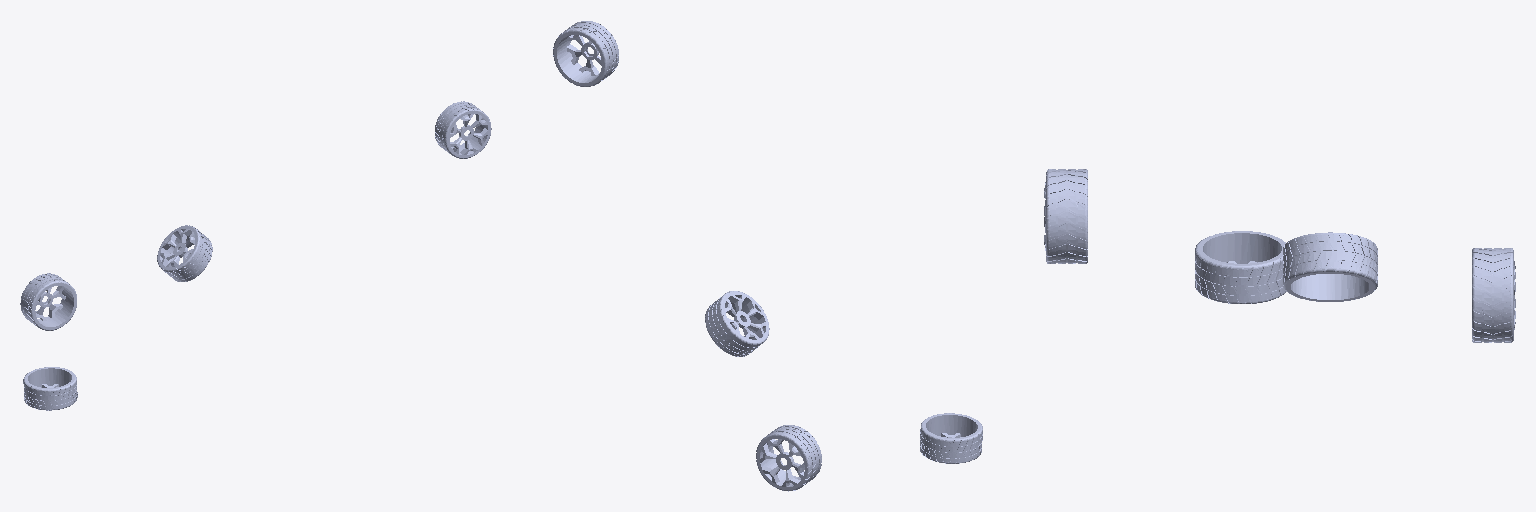
URDF robot description (car_amac):
<robot
  name="car_amac">
  <link
    name="lidar_base_link">
    <inertial>
      <origin
        xyz="0.06072 0.0001453 -0.06777"
        rpy="0 0 0" />
      <mass
        value="2.1016" />
      <inertia
        ixx="0.0051834"
        ixy="-6.6304E-06"
        ixz="0.001372"
        iyy="0.0096466"
        iyz="-1.5998E-05"
        izz="0.0044931" />
    </inertial>
    <visual>
      <origin
        xyz="0 0 0"
        rpy="0 0 0" />
      <geometry>
        <mesh
          filename="package://car_amac/meshes/lidar_base_link.STL" />
      </geometry>
      <material
        name="">
        <color
          rgba="0.89412 0.91373 0.92941 1" />
      </material>
    </visual>
    <collision>
      <origin
        xyz="0 0 0"
        rpy="0 0 0" />
      <geometry>
        <mesh
          filename="package://car_amac/meshes/lidar_base_link.STL" />
      </geometry>
    </collision>
  </link>
  <link
    name="LB_wheel">
    <inertial>
      <origin
        xyz="-1.7587E-09 -0.0058606 -3.4889E-10"
        rpy="0 0 0" />
      <mass
        value="0.09432" />
      <inertia
        ixx="0"
        ixy="0"
        ixz="0"
        iyy="0"
        iyz="0"
        izz="0" />
    </inertial>
    <visual>
      <origin
        xyz="0 0 0"
        rpy="0 0 0" />
      <geometry>
        <mesh
          filename="package://car_amac/meshes/LB_wheel.STL" />
      </geometry>
      <material
        name="">
        <color
          rgba="0.79216 0.81961 0.93333 1" />
      </material>
    </visual>
    <collision>
      <origin
        xyz="0 0 0"
        rpy="0 0 0" />
      <geometry>
        <mesh
          filename="package://car_amac/meshes/LB_wheel.STL" />
      </geometry>
    </collision>
  </link>
  <joint
    name="LB_wheel_cont"
    type="continuous">
    <origin
      xyz="-0.093466 0.145 -0.12113"
      rpy="-1.2694E-14 1.483E-15 2.2413E-15" />
    <parent
      link="lidar_base_link" />
    <child
      link="LB_wheel" />
    <axis
      xyz="0 1 0" />
  </joint>
  <link
    name="RB_wheel">
    <inertial>
      <origin
        xyz="-1.0738E-11 0.0058606 -1.793E-09"
        rpy="0 0 0" />
      <mass
        value="0.09432" />
      <inertia
        ixx="0"
        ixy="0"
        ixz="0"
        iyy="0"
        iyz="0"
        izz="0" />
    </inertial>
    <visual>
      <origin
        xyz="0 0 0"
        rpy="0 0 0" />
      <geometry>
        <mesh
          filename="package://car_amac/meshes/RB_wheel.STL" />
      </geometry>
      <material
        name="">
        <color
          rgba="0.79216 0.81961 0.93333 1" />
      </material>
    </visual>
    <collision>
      <origin
        xyz="0 0 0"
        rpy="0 0 0" />
      <geometry>
        <mesh
          filename="package://car_amac/meshes/RB_wheel.STL" />
      </geometry>
    </collision>
  </link>
  <joint
    name="RB_wheel_cont"
    type="continuous">
    <origin
      xyz="-0.093466 -0.145 -0.12113"
      rpy="-1.2694E-14 1.483E-15 2.2413E-15" />
    <parent
      link="lidar_base_link" />
    <child
      link="RB_wheel" />
    <axis
      xyz="0 1 0" />
  </joint>
  <link
    name="LF_wheel">
    <inertial>
      <origin
        xyz="-1.2145E-09 -0.0058606 -1.3191E-09"
        rpy="0 0 0" />
      <mass
        value="0.09432" />
      <inertia
        ixx="0"
        ixy="0"
        ixz="0"
        iyy="0"
        iyz="0"
        izz="0" />
    </inertial>
    <visual>
      <origin
        xyz="0 0 0"
        rpy="0 0 0" />
      <geometry>
        <mesh
          filename="package://car_amac/meshes/LF_wheel.STL" />
      </geometry>
      <material
        name="">
        <color
          rgba="0.79216 0.81961 0.93333 1" />
      </material>
    </visual>
    <collision>
      <origin
        xyz="0 0 0"
        rpy="0 0 0" />
      <geometry>
        <mesh
          filename="package://car_amac/meshes/LF_wheel.STL" />
      </geometry>
    </collision>
  </link>
  <joint
    name="LF_wheel_cont"
    type="continuous">
    <origin
      xyz="0.22421 0.145 -0.12113"
      rpy="-1.2694E-14 1.483E-15 2.2413E-15" />
    <parent
      link="lidar_base_link" />
    <child
      link="LF_wheel" />
    <axis
      xyz="0 1 0" />
  </joint>
  <link
    name="RF_wheel">
    <inertial>
      <origin
        xyz="-1.5057E-09 0.0058606 -9.735E-10"
        rpy="0 0 0" />
      <mass
        value="0.09432" />
      <inertia
        ixx="0"
        ixy="0"
        ixz="0"
        iyy="0"
        iyz="0"
        izz="0" />
    </inertial>
    <visual>
      <origin
        xyz="0 0 0"
        rpy="0 0 0" />
      <geometry>
        <mesh
          filename="package://car_amac/meshes/RF_wheel.STL" />
      </geometry>
      <material
        name="">
        <color
          rgba="0.79216 0.81961 0.93333 1" />
      </material>
    </visual>
    <collision>
      <origin
        xyz="0 0 0"
        rpy="0 0 0" />
      <geometry>
        <mesh
          filename="package://car_amac/meshes/RF_wheel.STL" />
      </geometry>
    </collision>
  </link>
  <joint
    name="RF_wheel_cont"
    type="continuous">
    <origin
      xyz="0.22421 -0.145 -0.12113"
      rpy="-1.2694E-14 1.483E-15 2.2413E-15" />
    <parent
      link="lidar_base_link" />
    <child
      link="RF_wheel" />
    <axis
      xyz="0 1 0" />
  </joint>
</robot>

--- Facts derived from the render (not from the file) ---
Views: 3 orthographic renders of the robot side by side, from view 1: azimuth 30°, elevation 25°; view 2: azimuth 150°, elevation 25°; view 3: azimuth 270°, elevation 25°.
Robot: car_amac — 5 links, 4 joints (4 continuous); root link lidar_base_link; default pose: all joints at 0.
Visible links, largest first — view 1: LB_wheel, RF_wheel, LF_wheel, RB_wheel; view 2: RF_wheel, LB_wheel, LF_wheel, RB_wheel; view 3: LF_wheel, RB_wheel, LB_wheel, RF_wheel.
Link boxes in pixels (bbox=[...]): LB_wheel: bbox=[20, 273, 76, 330]; RF_wheel: bbox=[435, 101, 491, 158]; LF_wheel: bbox=[157, 225, 212, 281]; RB_wheel: bbox=[23, 367, 77, 410]; RF_wheel: bbox=[553, 21, 618, 86]; LB_wheel: bbox=[756, 425, 821, 491]; LF_wheel: bbox=[705, 291, 769, 356]; RB_wheel: bbox=[920, 413, 982, 463]; LF_wheel: bbox=[1283, 232, 1377, 301]; RB_wheel: bbox=[1195, 231, 1285, 303]; LB_wheel: bbox=[1472, 248, 1515, 342]; RF_wheel: bbox=[1044, 169, 1087, 263].
Bounding box of the posed robot: 0.8465 × 0.4744 × 0.4785 m (x, y, z).
Meshes: 5 distinct files referenced, 4 mesh visuals loaded (4 binary STL); not drawn: 1 (reference not matched to a file when rendering).